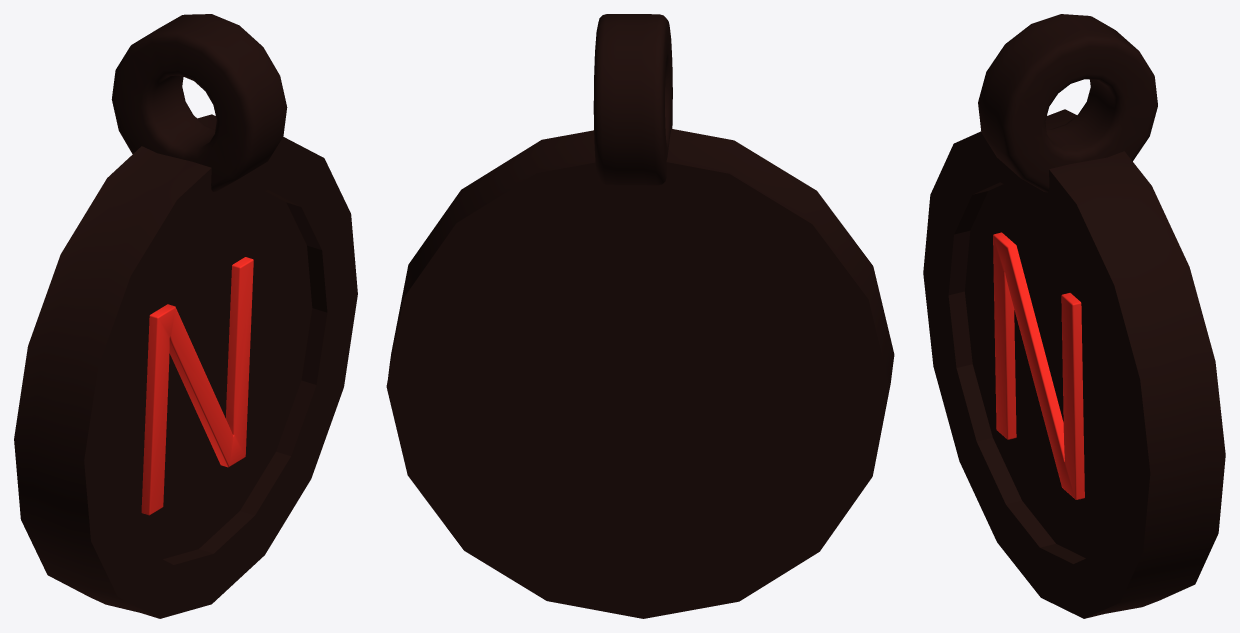
3 renders of one model, left to right at view 1: azimuth 30°, elevation 25°; view 2: azimuth 150°, elevation 25°; view 3: azimuth 270°, elevation 25°, orthographic.
Parts seen in each view (by area): view 1: Cylinder, Tube, N_2; view 2: Cylinder, Tube; view 3: Cylinder, Tube, N_2.
Part boxes in pixels (bbox=[...]): Cylinder: bbox=[14, 114, 357, 618]; Tube: bbox=[111, 14, 287, 191]; N_2: bbox=[141, 257, 253, 515]; Cylinder: bbox=[386, 128, 894, 618]; Tube: bbox=[593, 14, 672, 185]; Cylinder: bbox=[923, 109, 1225, 618]; Tube: bbox=[978, 14, 1157, 192]; N_2: bbox=[993, 232, 1084, 499].
Bounding box in the file's own units: 16.88 × 10.48 × 21.94.
